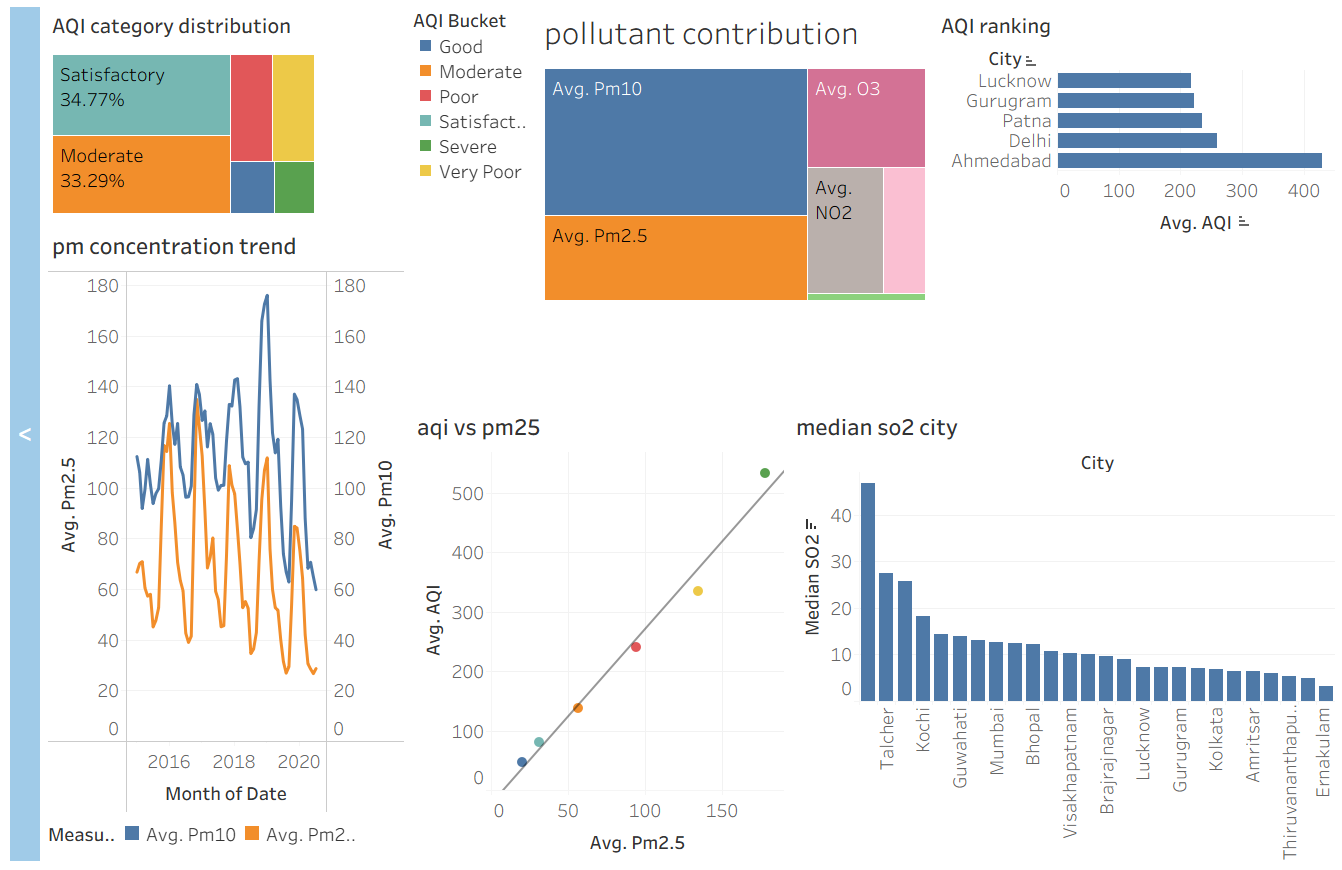

The dashboard page shown, as its layout file describes it:
{"tool":"tableau","page":{"name":"Pollutant Science & City Rankings","canvas":[1000,1000],"units":"permille","ordinal":1},"visuals":[{"type":"dashboard-object","box":[7.1,9.1,27.9,981.8]},{"type":"worksheet","title":"7.AQI Category Distribution","mark":"Square","box":[35.1,9.1,269.7,249.4]},{"type":"legend","title":"7.AQI Category Distribution","param":"[federated.1en589u0y8ydwm1g86rmy0cmkoeu].[none:AQI_Bucket:nk]","box":[304.8,9.1,94.3,248.3]},{"type":"worksheet","title":"pollutant contribution","mark":"Square","box":[399.1,9.1,293.4,455.6]},{"type":"worksheet","title":"3.AQI Ranking","mark":"Automatic","rows":["City"],"cols":["AQI"],"box":[692.5,9.1,300.4,455.6]},{"type":"worksheet","title":"8.PM Concentration Trend","mark":"Automatic","rows":["PM2.5","PM10"],"cols":["Date"],"box":[35.1,258.5,269.7,677.7]},{"type":"worksheet","title":"9.aqi vs pm25","mark":"Circle","rows":["AQI"],"cols":["PM2.5"],"box":[304.8,464.7,280.4,526.2]},{"type":"worksheet","title":"10.Median SO2 City Ranking","mark":"Bar","rows":["SO2"],"cols":["City"],"box":[585.2,464.7,407.7,526.2]},{"type":"legend","title":"8.PM Concentration Trend","param":"[federated.1en589u0y8ydwm1g86rmy0cmkoeu].[:Measure Names]","box":[35.1,936.2,269.7,54.7]}]}

Visuals, with their boxes on the dashboard's canvas, which has no fixed pixel size, in thousandths of its width and height (x1, y1, x2, y2). These are canvas units, not pixel positions in the 1342x870 screenshot, which may show the page scaled, cropped or inside an application window:
dashboard-object: Rect(7, 9, 35, 991)
"7.AQI Category Distribution" worksheet (Square marks): Rect(35, 9, 305, 258)
"7.AQI Category Distribution" legend: Rect(305, 9, 399, 257)
"pollutant contribution" worksheet (Square marks): Rect(399, 9, 692, 465)
"3.AQI Ranking" worksheet: Rect(692, 9, 993, 465)
"8.PM Concentration Trend" worksheet: Rect(35, 258, 305, 936)
"9.aqi vs pm25" worksheet (Circle marks): Rect(305, 465, 585, 991)
"10.Median SO2 City Ranking" worksheet (Bar marks): Rect(585, 465, 993, 991)
"8.PM Concentration Trend" legend: Rect(35, 936, 305, 991)
